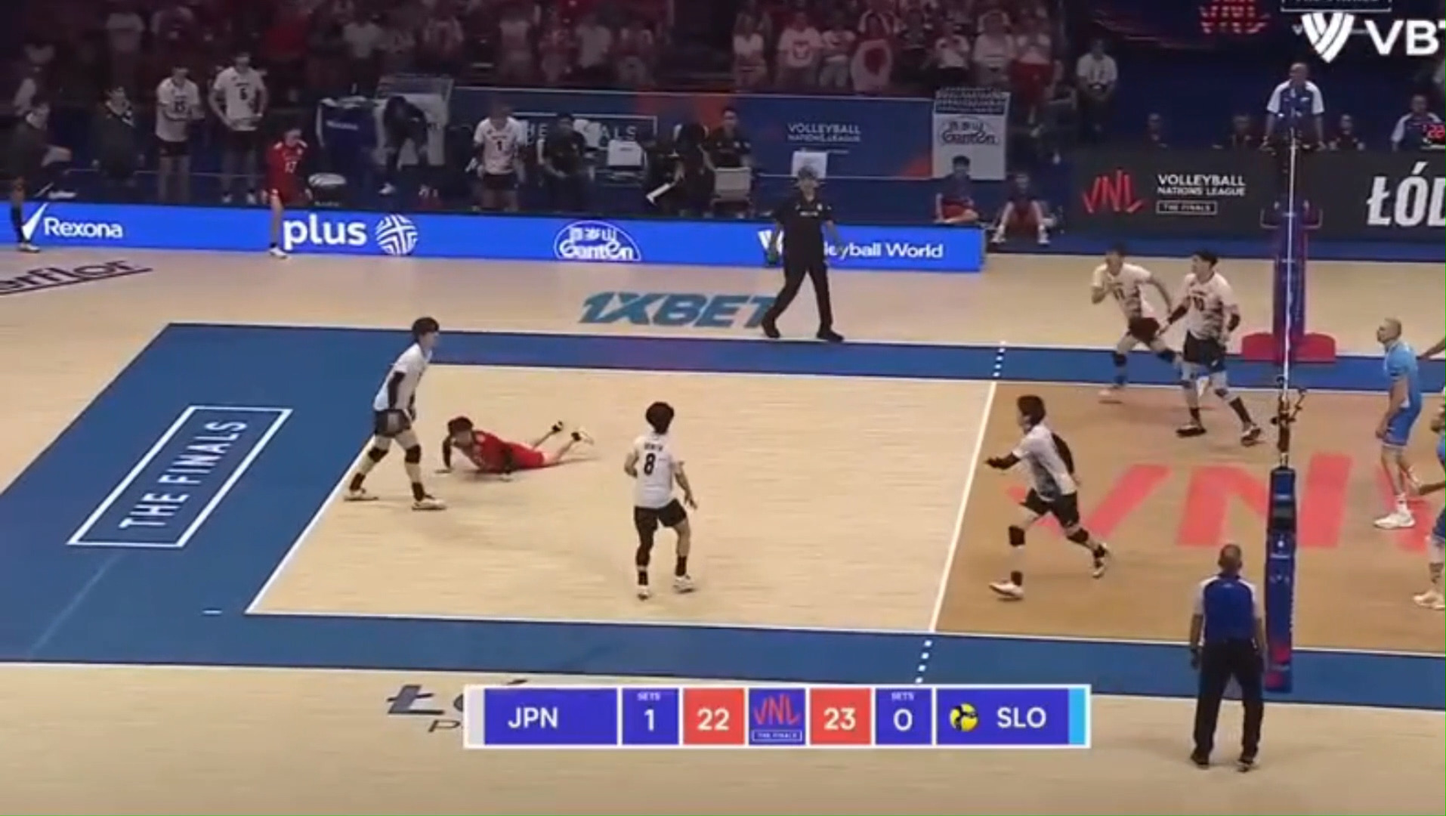player: (1373, 318, 1422, 529), (1414, 506, 1445, 610), (1432, 413, 1445, 469), (1417, 336, 1445, 360), (1420, 481, 1445, 493)
player 1: (986, 394, 1111, 599), (344, 317, 444, 510), (1169, 251, 1261, 444), (623, 401, 696, 599), (1091, 246, 1178, 401), (441, 416, 590, 475)
referee: (1188, 544, 1268, 770), (760, 168, 844, 342), (1262, 62, 1324, 228)
